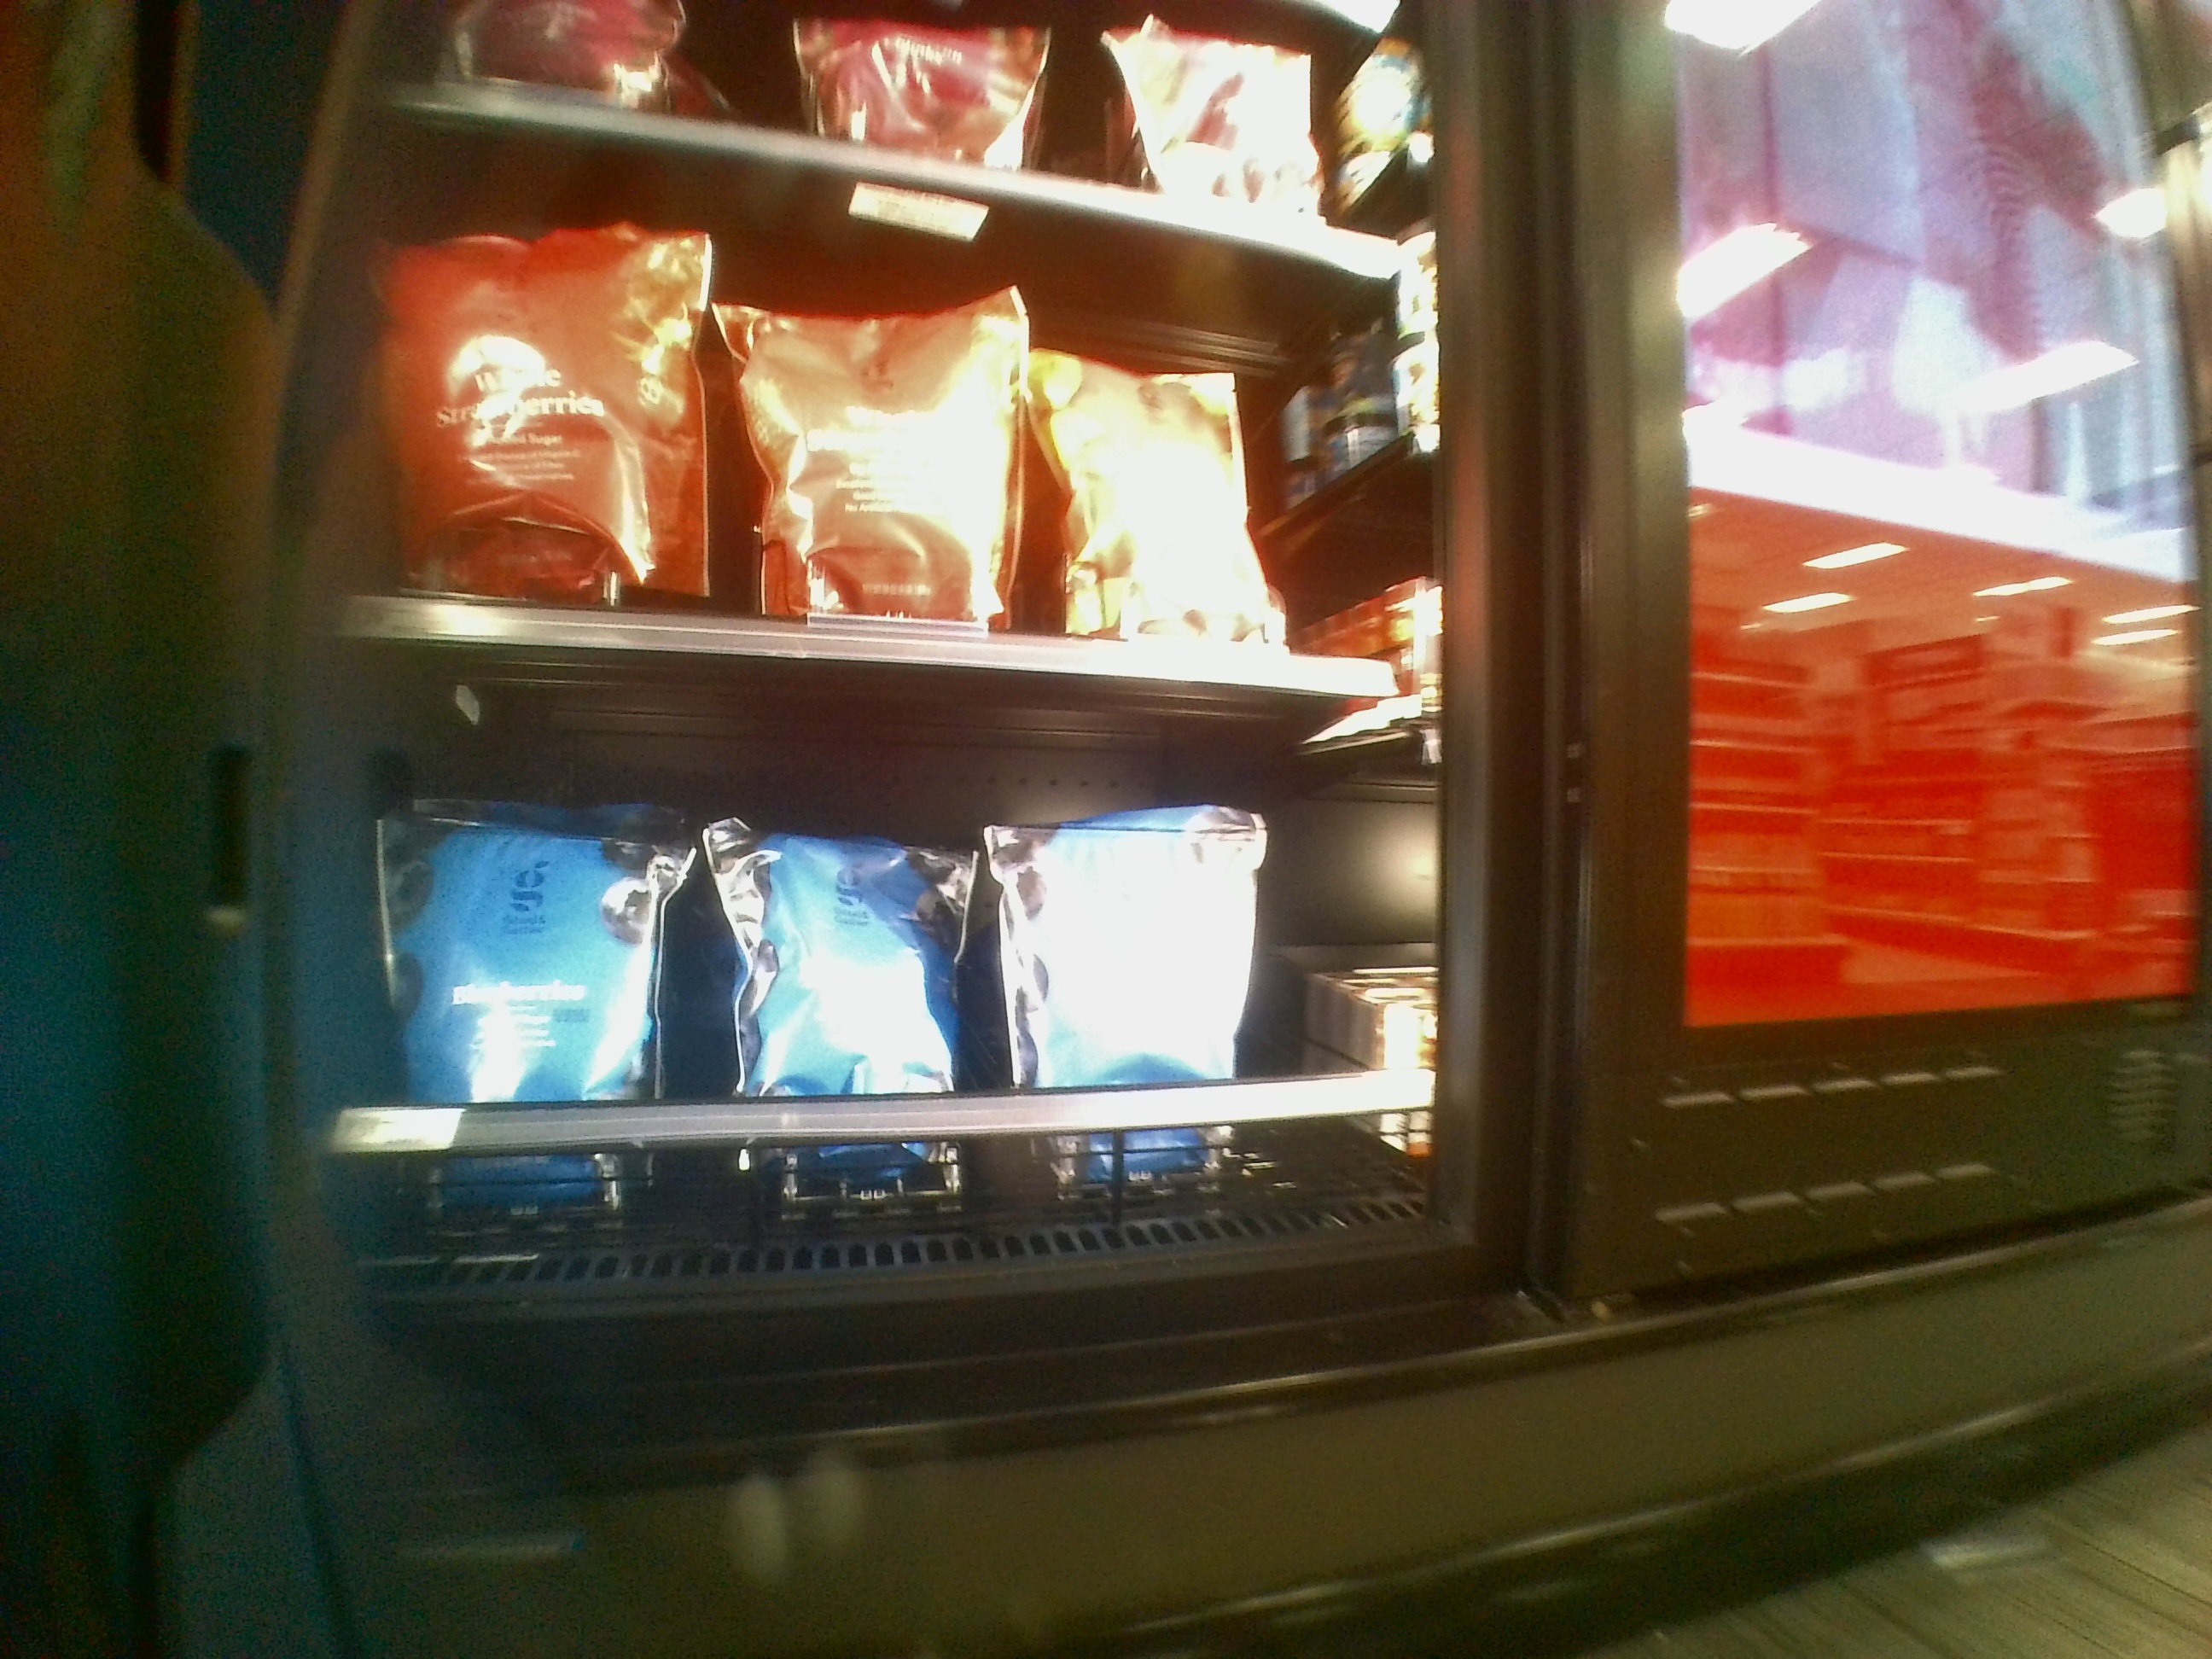shelf: (338, 685, 1430, 1246), (338, 213, 1421, 704)
